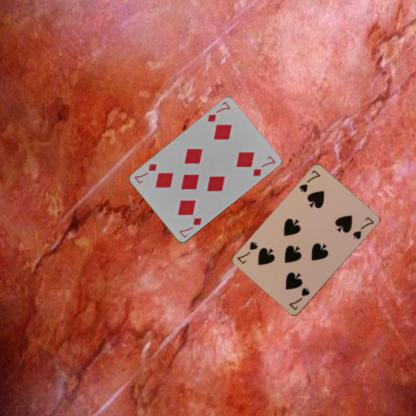7d: (205, 99, 232, 124), (176, 216, 203, 239)
7s: (296, 168, 322, 194), (286, 285, 311, 311)
